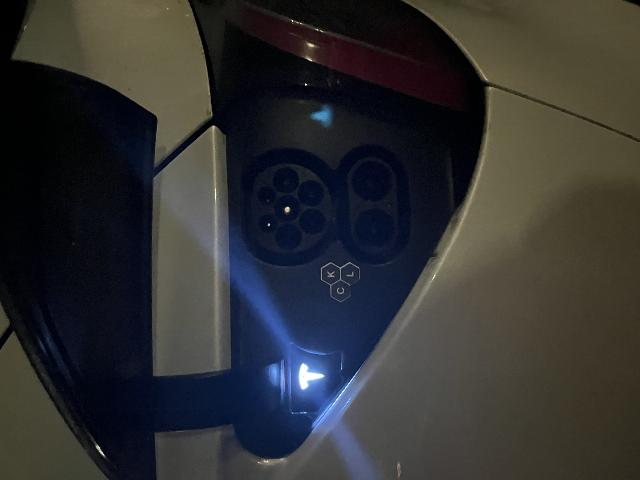inlet: (226, 253, 316, 331)
inlet-above-left: (246, 258, 265, 276)
inlet-above-right: (274, 257, 293, 275)
inlet-below-left: (246, 299, 271, 325)
inlet-below-right: (273, 298, 300, 324)
inlet-circle: (259, 274, 284, 301)
inlet-circle-left: (230, 274, 256, 302)
inlet-circle-right: (286, 273, 313, 299)
inlet-minus: (278, 352, 319, 392)
inlet-plus: (231, 354, 271, 395)
